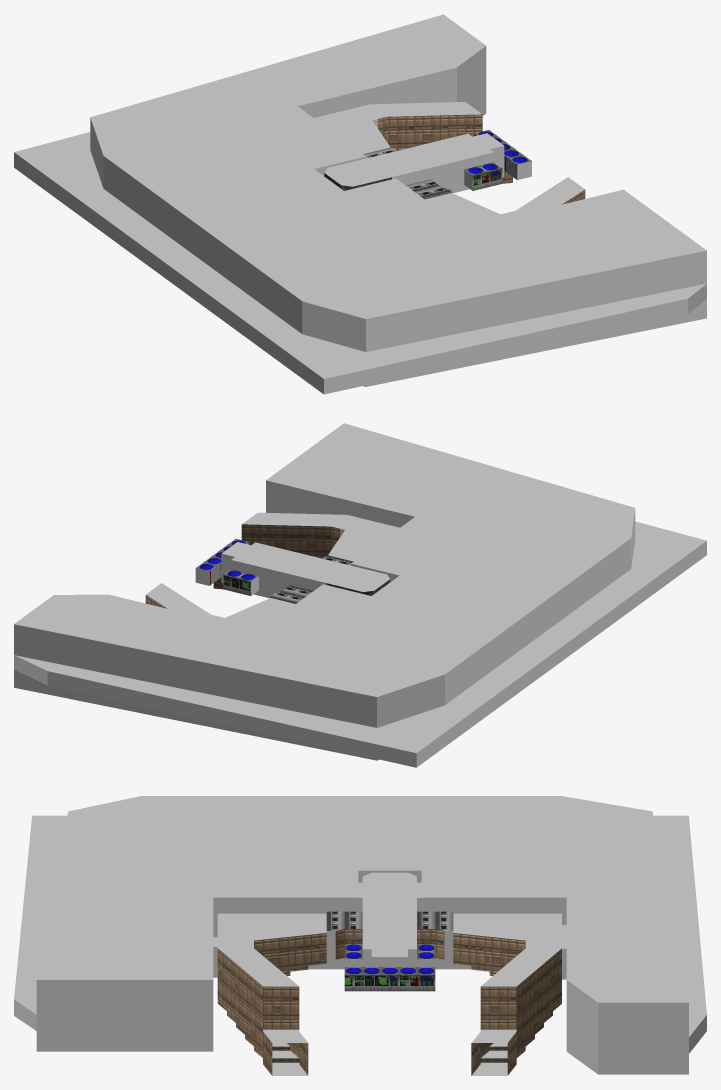
Rendered from untitled_room1.fbx.
3 views of the same model, one above another, from view 1: azimuth 30°, elevation 25°; view 2: azimuth 150°, elevation 25°; view 3: azimuth 270°, elevation 25° (orthographic). The views are drawn at different scales.
Visible parts, largest first — view 1: E1M2.001; view 2: E1M2.001; view 3: E1M2.001.
Part boxes in pixels (<box>): E1M2.001: <box>14,14,706,394</box>; E1M2.001: <box>14,423,706,767</box>; E1M2.001: <box>14,796,706,1075</box>.
Size of the model in its own units: 185600 by 35200 by 244800.
